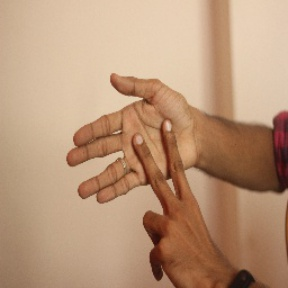N: (64, 69, 206, 249)
